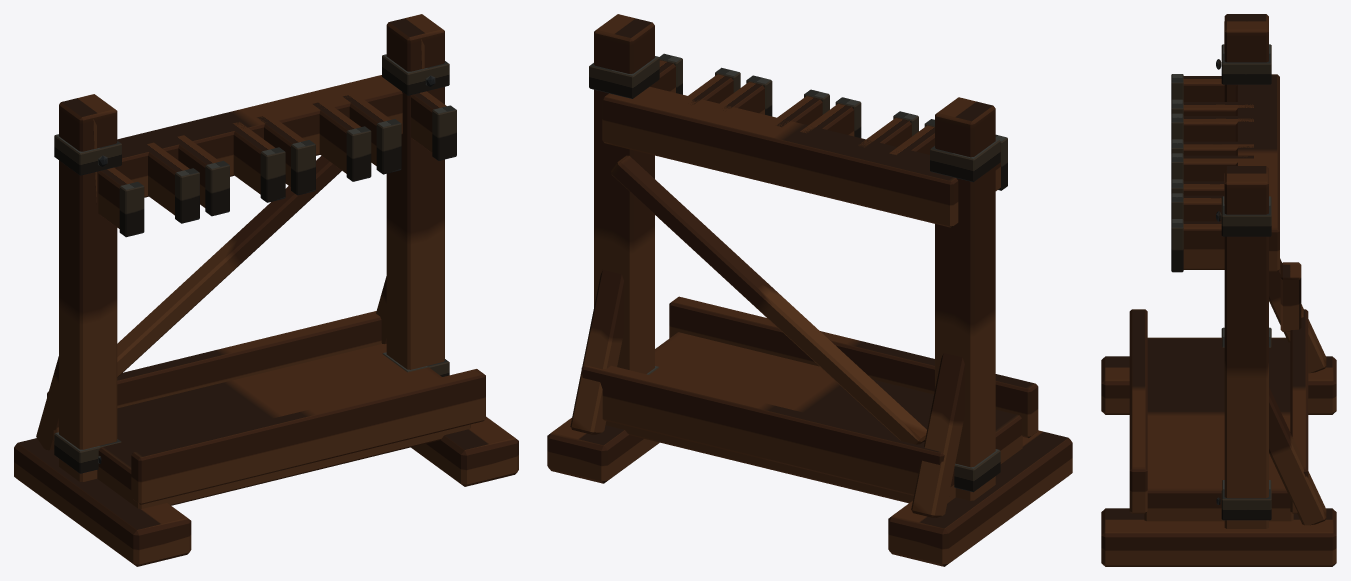
Rendered from WeaponRack_Polearms_Empty.fbx.
3 renders of one model, left to right at view 1: azimuth 30°, elevation 25°; view 2: azimuth 150°, elevation 25°; view 3: azimuth 270°, elevation 25°, orthographic. The views are drawn at different scales.
Visible parts, largest first — view 1: WeaponRack_Polearms_Empty; view 2: WeaponRack_Polearms_Empty; view 3: WeaponRack_Polearms_Empty.
Boxes of the visible parts, x1=… form: WeaponRack_Polearms_Empty: x1=14, y1=14, x2=518, y2=566; WeaponRack_Polearms_Empty: x1=547, y1=14, x2=1072, y2=566; WeaponRack_Polearms_Empty: x1=1101, y1=14, x2=1336, y2=566.
Bounding box in the file's own units: 1.53 × 1.52 × 0.85.
Materials: 2 (2 with a texture image).
